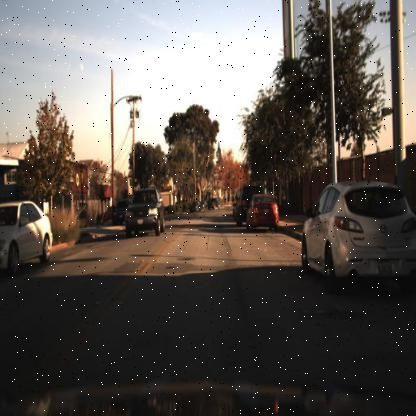car: (296, 177, 413, 296), (0, 202, 54, 277), (120, 178, 168, 240), (125, 184, 165, 237), (243, 190, 282, 233), (235, 187, 248, 227)
